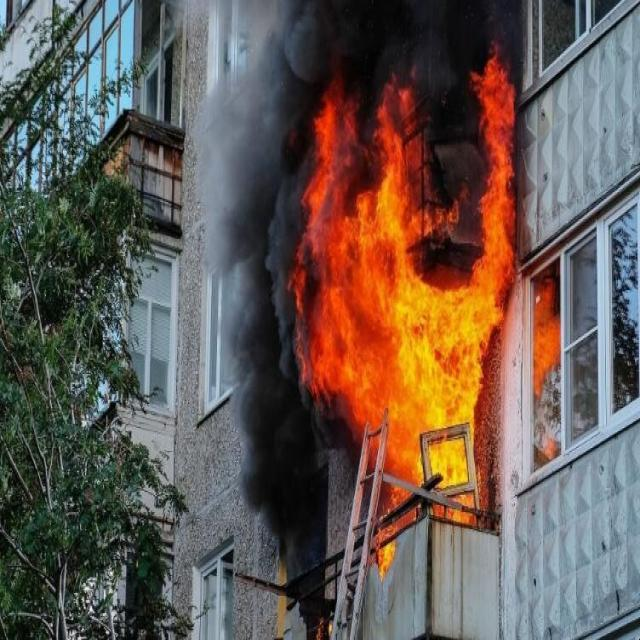Fire: (292, 59, 514, 404), (352, 406, 475, 522), (376, 536, 396, 580)
Smoke: (198, 39, 292, 559), (290, 0, 515, 57)
